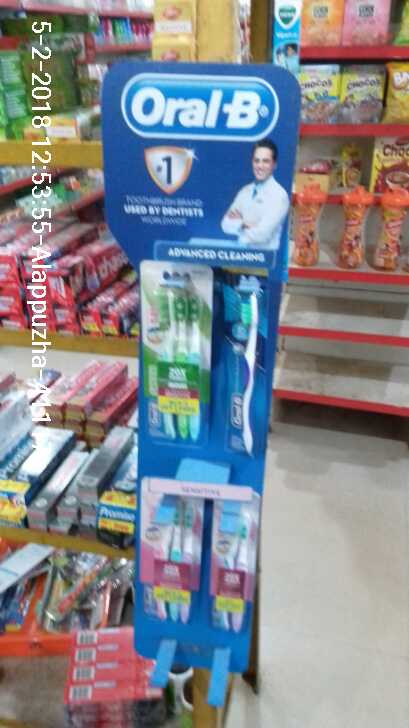oralb: (135, 264, 215, 445), (129, 488, 199, 622), (221, 264, 266, 454), (207, 503, 250, 635)
